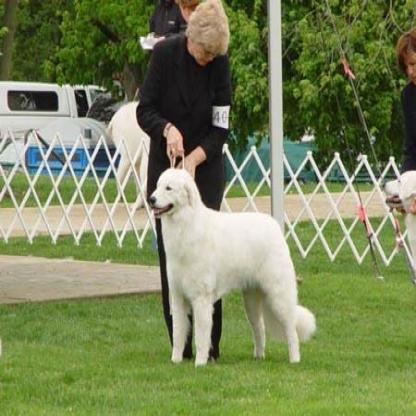kuvasz: (148, 166, 316, 368)
